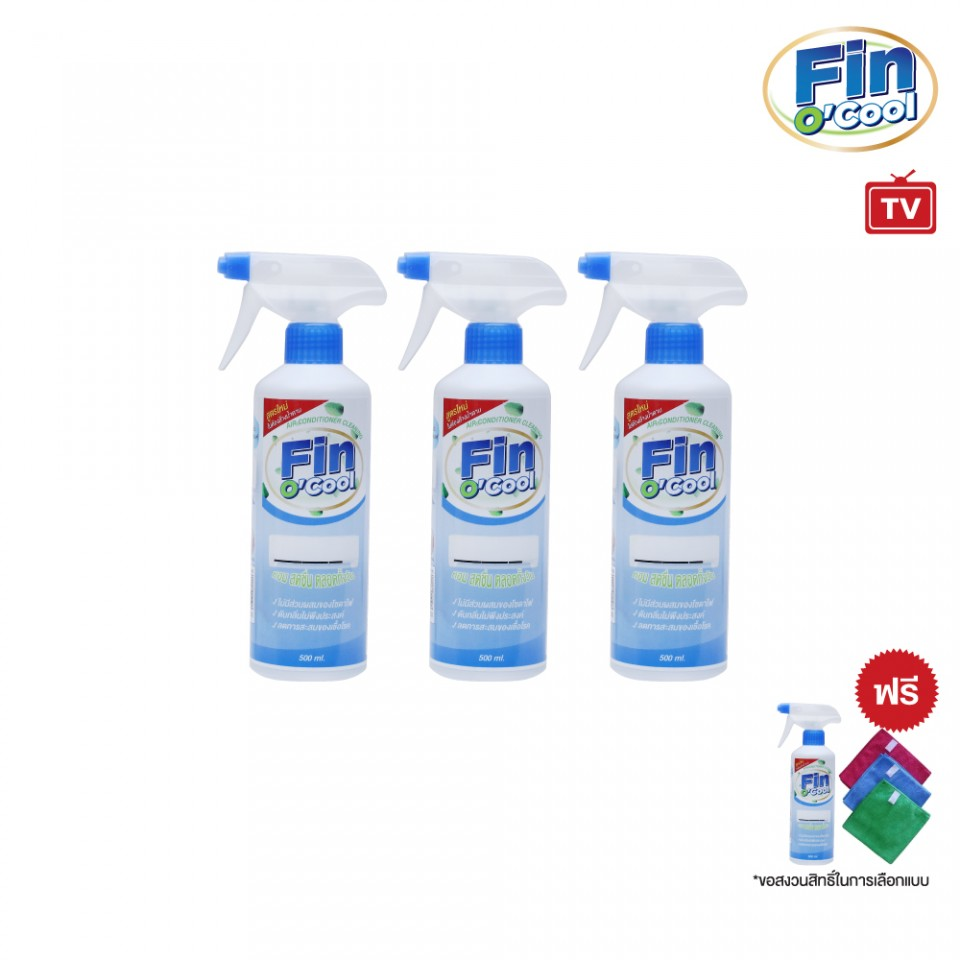Cleaning_solution: (572, 238, 768, 705), (389, 241, 578, 697), (203, 242, 395, 689), (772, 697, 847, 872)
